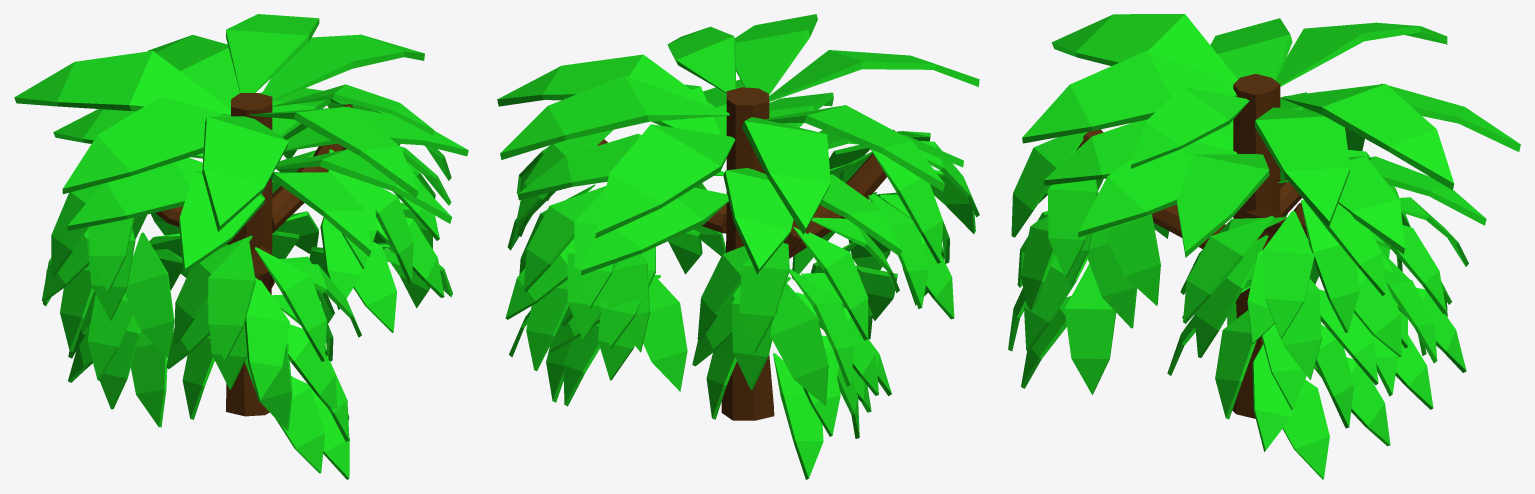
File: Morera.fbx
3 renders of one model, left to right at view 1: azimuth 30°, elevation 25°; view 2: azimuth 150°, elevation 25°; view 3: azimuth 270°, elevation 25°, orthographic. The views are drawn at different scales.
Parts seen in each view (by area): view 1: Troncomorera; view 2: Troncomorera; view 3: Troncomorera.
Part boxes in pixels (x1,y1,x2,y2): Troncomorera: (14,14,468,479); Troncomorera: (497,14,979,479); Troncomorera: (1008,14,1520,479).
Bounding box in the file's own units: 439 × 346 × 458.
